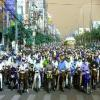motorcycles: (80, 68, 92, 96), (45, 68, 54, 94), (33, 68, 42, 92), (8, 66, 17, 90), (90, 64, 98, 90), (18, 69, 25, 96), (60, 68, 68, 91)
